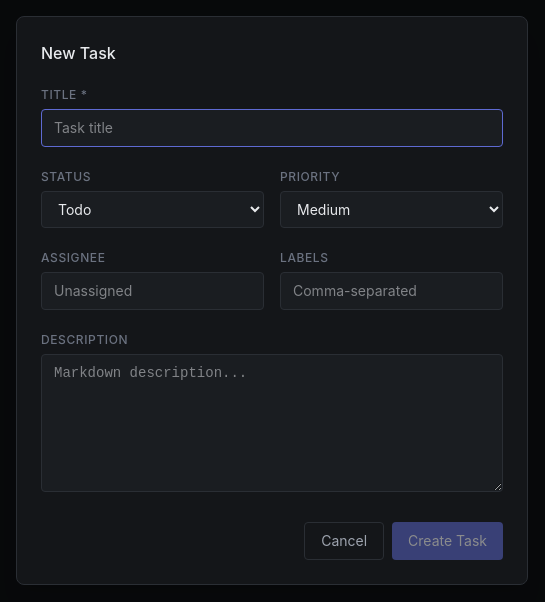
Scenario: TaskForm › submit button is enabled when title is filled
The image size is (545, 602).
Type "My new task" into the field with placeholder "Task title".
click(272, 128); type("My new task")  # box [41, 108, 503, 146]
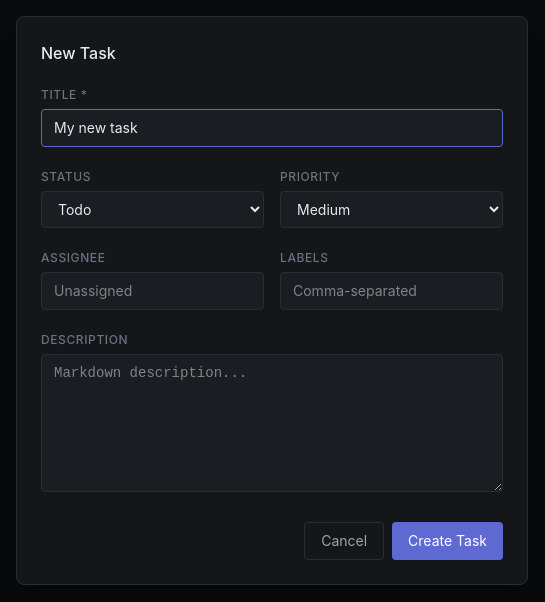
Now the button "Create Task" is enabled, box [392, 522, 503, 560]
